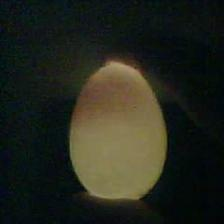infertile: (68, 60, 168, 202)
